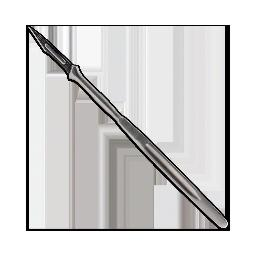scalpel: (26, 24, 228, 230)
